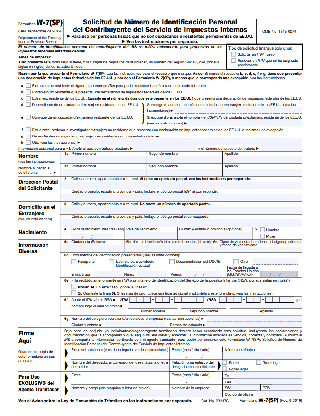checkbox: (69, 282, 78, 290), (258, 225, 267, 233), (70, 289, 78, 297), (258, 231, 267, 238), (24, 101, 32, 108), (24, 126, 32, 133), (108, 258, 116, 265), (168, 258, 176, 265), (232, 258, 240, 265), (24, 88, 31, 95), (24, 132, 31, 139), (221, 359, 228, 366), (255, 359, 262, 366), (221, 364, 228, 371), (24, 82, 32, 88), (24, 114, 32, 120), (24, 95, 31, 101), (24, 139, 31, 145), (71, 258, 77, 265), (231, 51, 237, 56), (231, 58, 237, 63)
textbox: (58, 213, 305, 228), (59, 175, 305, 190), (58, 188, 305, 202), (59, 201, 305, 215), (70, 357, 172, 374), (68, 383, 172, 398), (68, 345, 170, 360), (122, 237, 213, 253), (59, 149, 149, 165), (59, 162, 149, 178), (70, 371, 171, 385), (210, 238, 301, 253), (221, 344, 305, 360), (221, 162, 304, 178), (221, 150, 304, 165), (146, 150, 225, 165), (145, 162, 224, 177), (176, 226, 254, 240), (59, 225, 126, 240), (59, 238, 126, 253), (169, 345, 225, 361), (122, 226, 179, 240), (167, 383, 224, 397), (169, 371, 226, 385), (221, 371, 305, 380), (221, 376, 305, 385), (221, 390, 305, 398), (220, 383, 262, 392), (258, 383, 303, 391), (264, 294, 295, 304), (173, 295, 205, 303), (128, 295, 152, 304), (217, 295, 243, 303), (154, 294, 171, 304), (245, 295, 262, 303)
textline: (80, 139, 303, 147), (187, 118, 305, 128), (175, 106, 305, 115), (102, 320, 167, 329), (206, 323, 303, 329), (206, 316, 302, 322), (229, 303, 304, 310), (134, 145, 197, 152), (251, 257, 299, 266), (259, 270, 303, 279), (127, 303, 178, 310), (180, 303, 228, 310), (182, 269, 221, 277), (259, 145, 303, 152), (91, 270, 124, 278), (134, 271, 167, 279)
